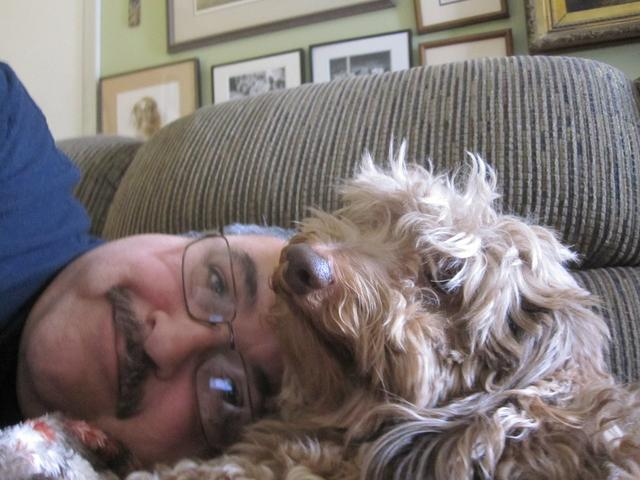dog: (238, 130, 620, 457)
